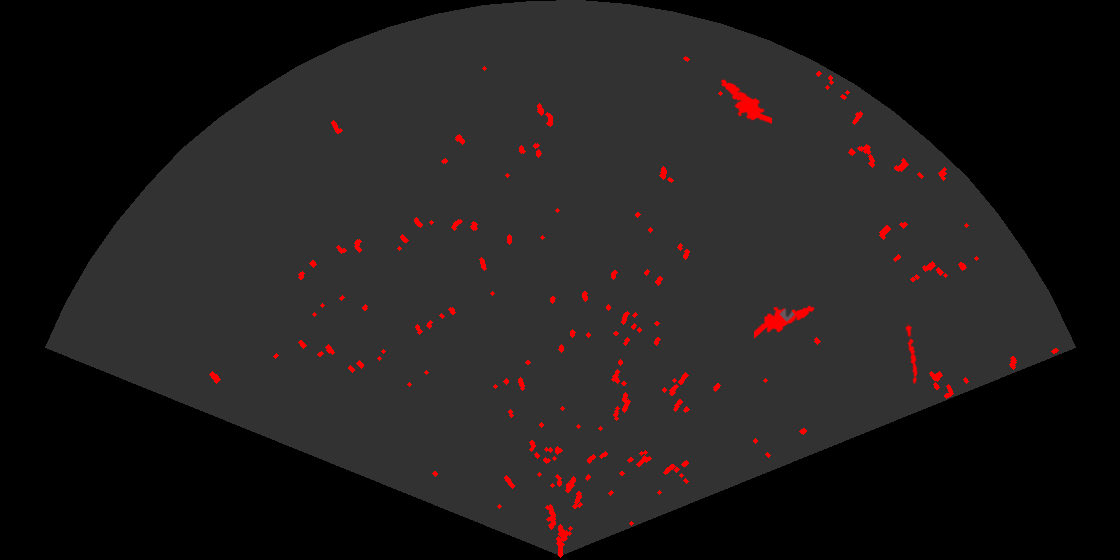chain: (904, 323, 919, 385)
frogman: (719, 78, 772, 126), (754, 304, 816, 340)
